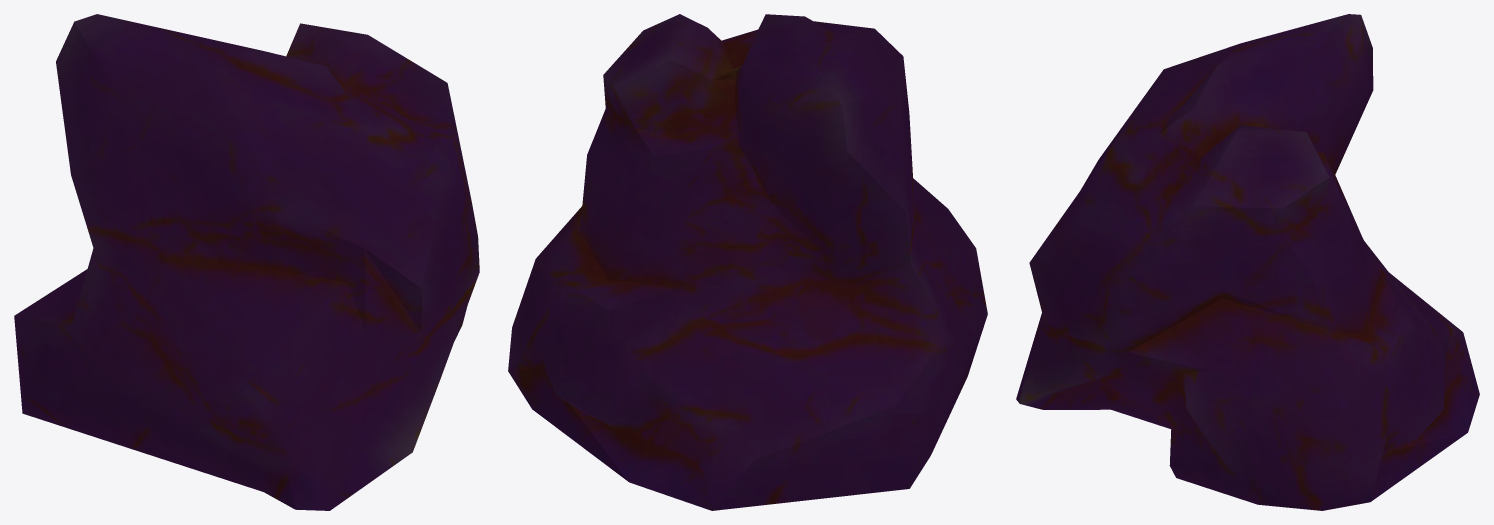
The model's file is crystal-transformed.glb.
3 views of the same model, side by side, from view 1: azimuth 30°, elevation 25°; view 2: azimuth 150°, elevation 25°; view 3: azimuth 270°, elevation 25° (orthographic). The views are drawn at different scales.
Visible parts, largest first — view 1: Stone_low_1_Stone_low_1_0; view 2: Stone_low_1_Stone_low_1_0; view 3: Stone_low_1_Stone_low_1_0.
Part boxes in pixels (x1,y1,x2,y2): Stone_low_1_Stone_low_1_0: [14, 14, 479, 510]; Stone_low_1_Stone_low_1_0: [508, 14, 987, 510]; Stone_low_1_Stone_low_1_0: [1016, 14, 1479, 510].
Size of what is drawn, in the model's own units: 1.08 by 0.9787 by 1.15.
1 material, 1 textured.
